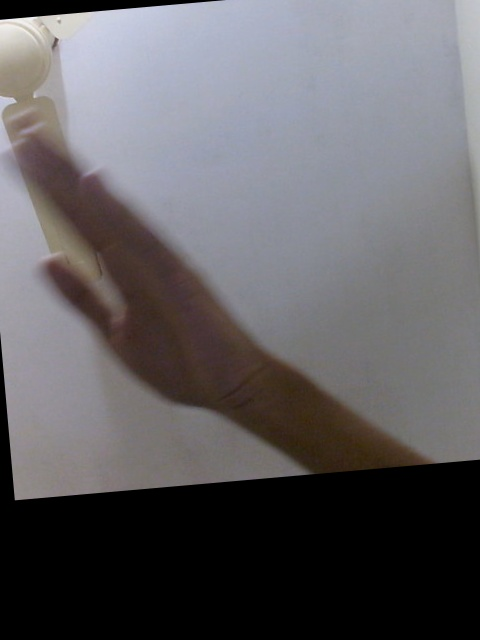hand: (5, 130, 281, 430)
